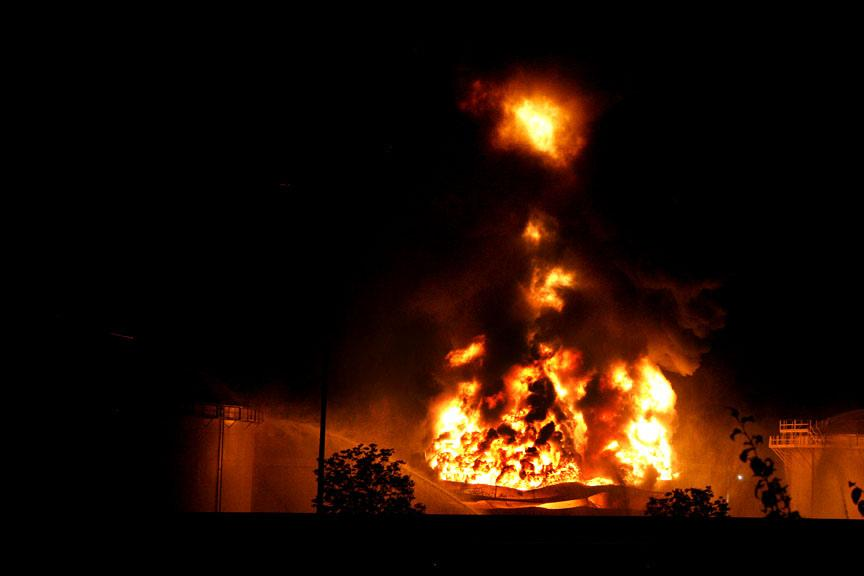fire: (437, 406, 584, 484), (620, 373, 677, 470), (513, 97, 557, 153)
